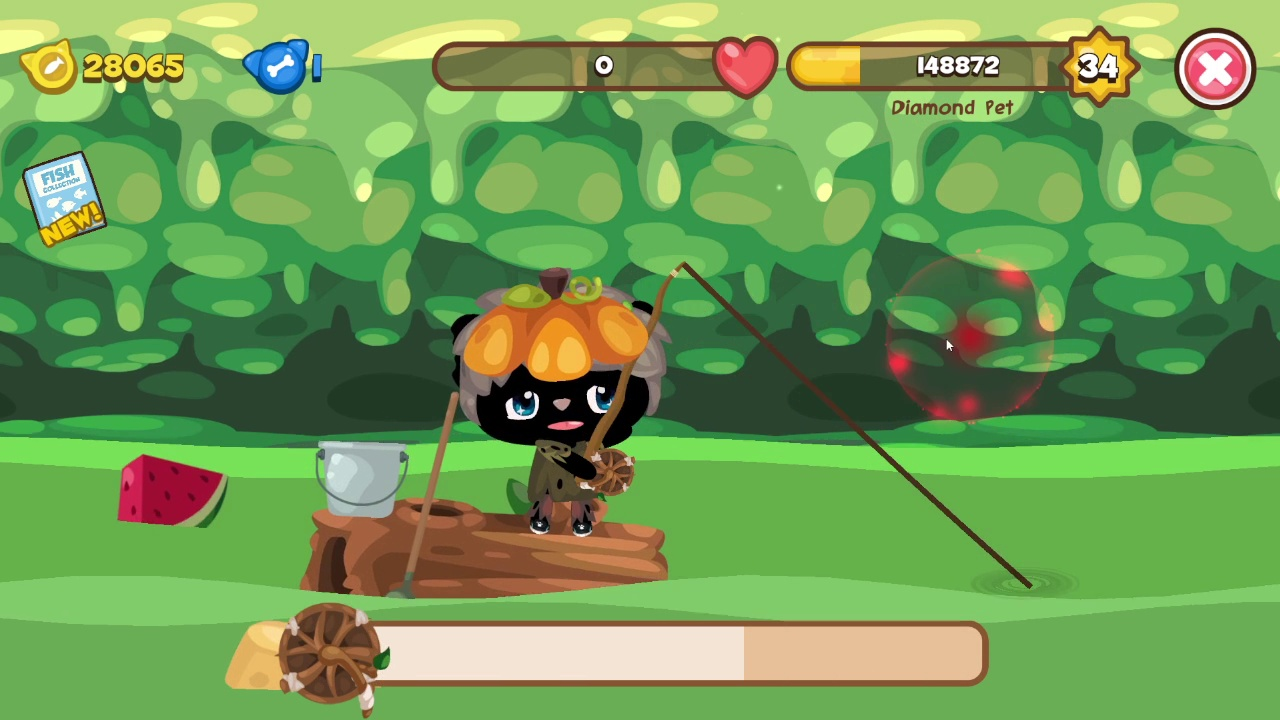point: (882, 251, 1055, 423)
